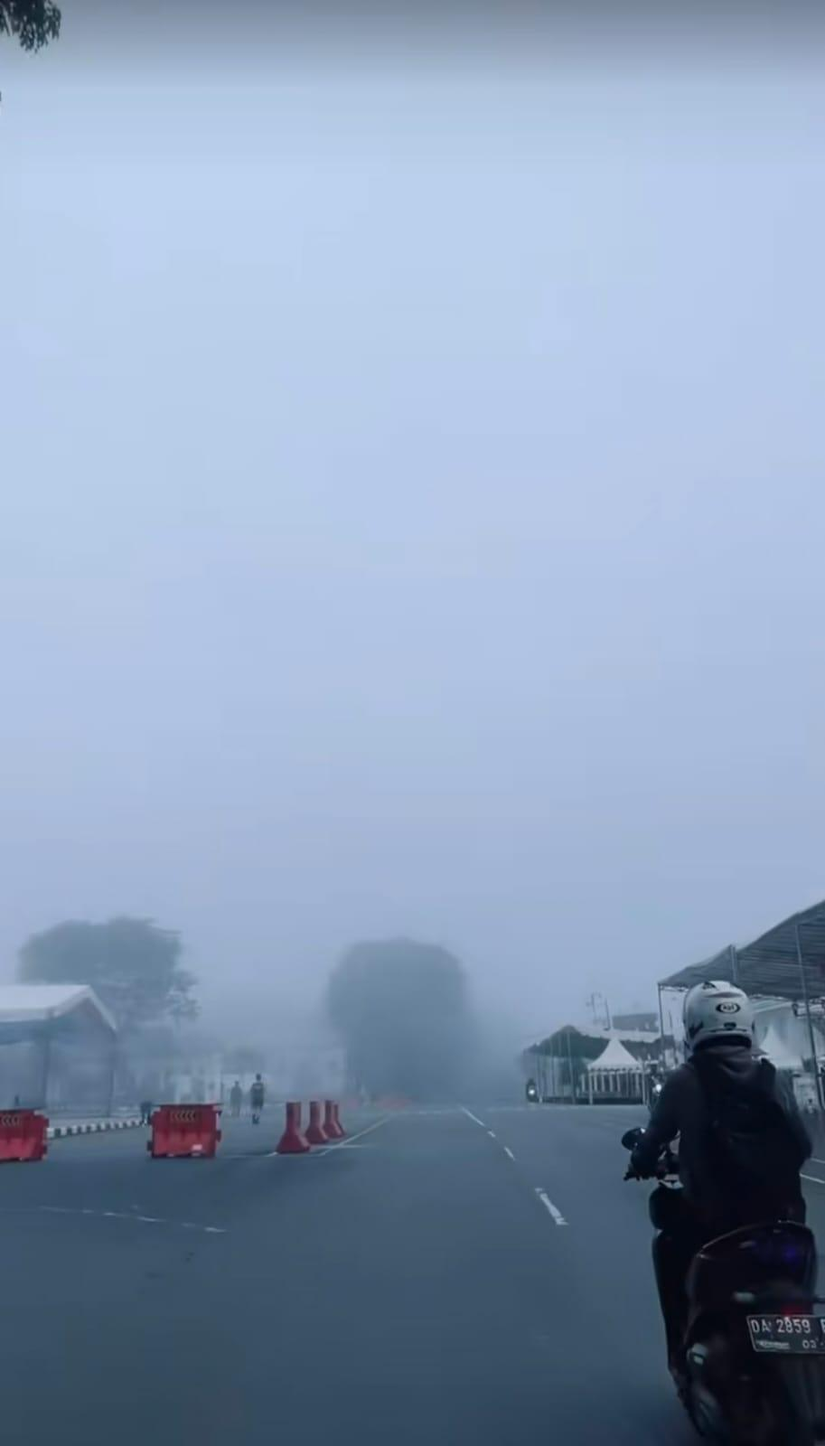Deteksi-Objek-Citra-Berasap: (0, 55, 824, 1118)
Gedung: (659, 899, 824, 1143), (0, 984, 128, 1120), (525, 1019, 667, 1111)
Kendaraan: (621, 1125, 824, 1446), (524, 1078, 539, 1105)
Manusia: (625, 977, 812, 1373), (248, 1074, 267, 1128), (227, 1078, 245, 1121)
Vegetasi: (15, 914, 204, 1091), (315, 932, 483, 1107), (0, 0, 63, 53)
